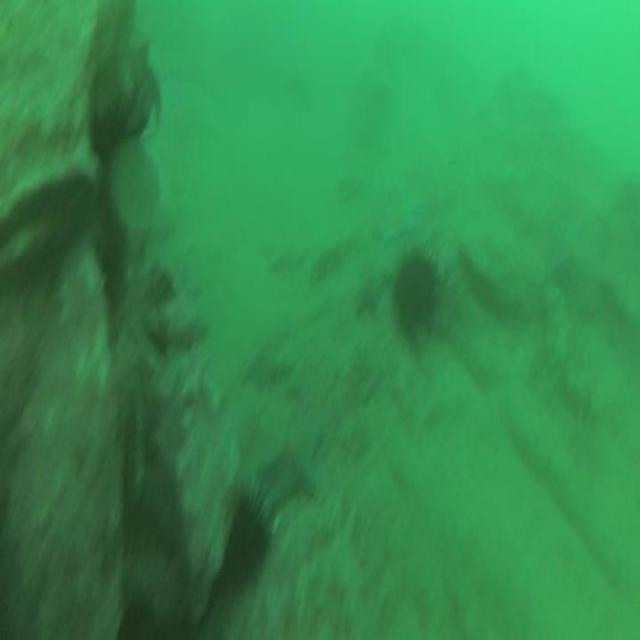echinus: (223, 499, 266, 582), (396, 254, 438, 330)
holothurian: (540, 288, 602, 427), (308, 229, 354, 275)
starfish: (258, 412, 328, 498), (352, 273, 382, 313)
